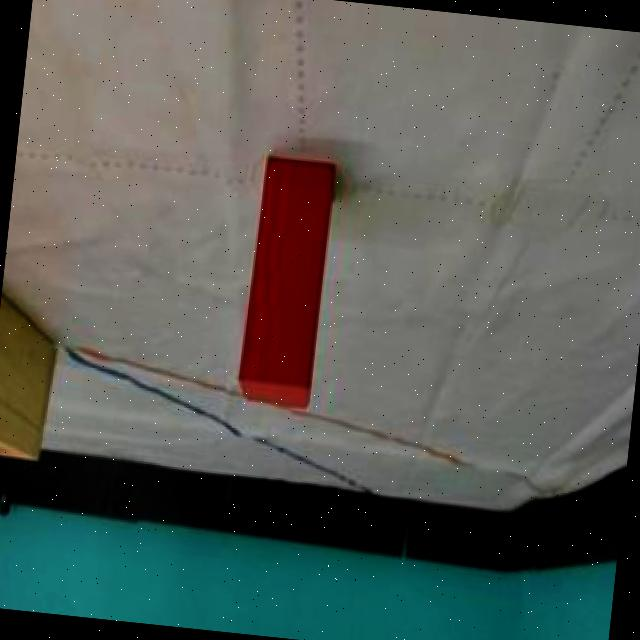redbox: (232, 155, 340, 414)
